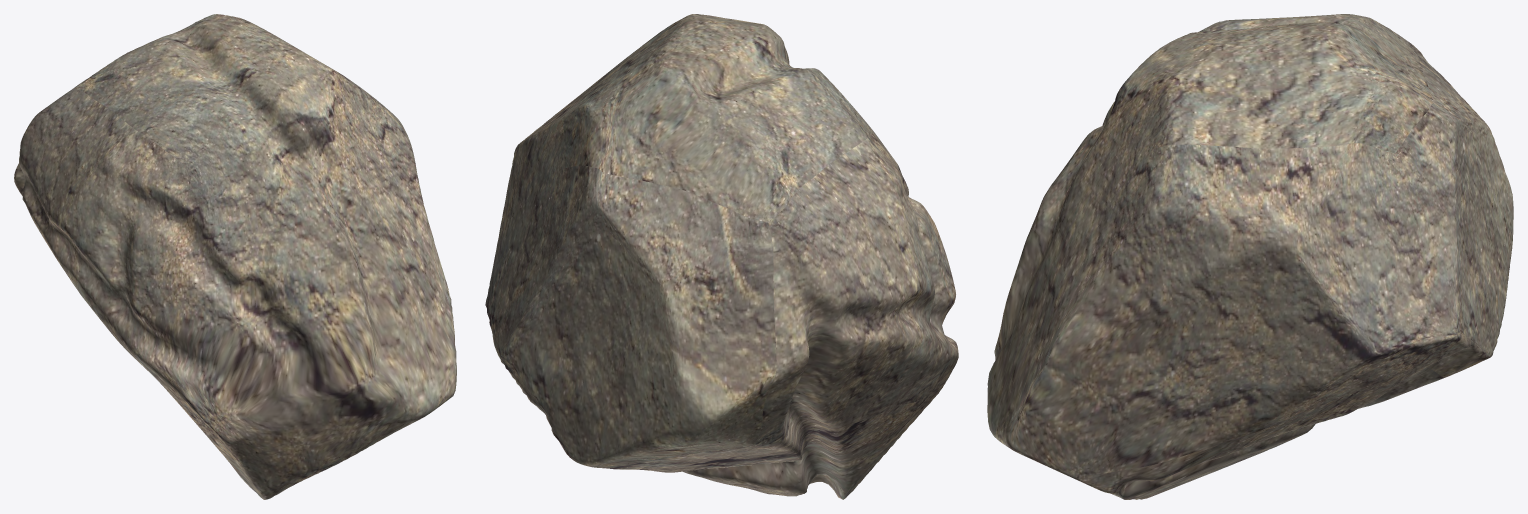
The model's file is rockkk.obj.
3 views of the same model, side by side, from view 1: azimuth 30°, elevation 25°; view 2: azimuth 150°, elevation 25°; view 3: azimuth 270°, elevation 25° (orthographic). The views are drawn at different scales.
Parts seen in each view (by area): view 1: ZBrush_defualt_group; view 2: ZBrush_defualt_group; view 3: ZBrush_defualt_group.
Part boxes in pixels (bbox=[...]): ZBrush_defualt_group: bbox=[14, 14, 456, 499]; ZBrush_defualt_group: bbox=[485, 14, 958, 499]; ZBrush_defualt_group: bbox=[987, 14, 1513, 499].
Bounding box in the file's own units: 1.22 × 1.47 × 1.46.
